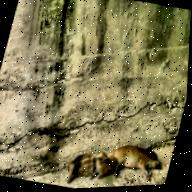boar: (60, 138, 111, 180)
